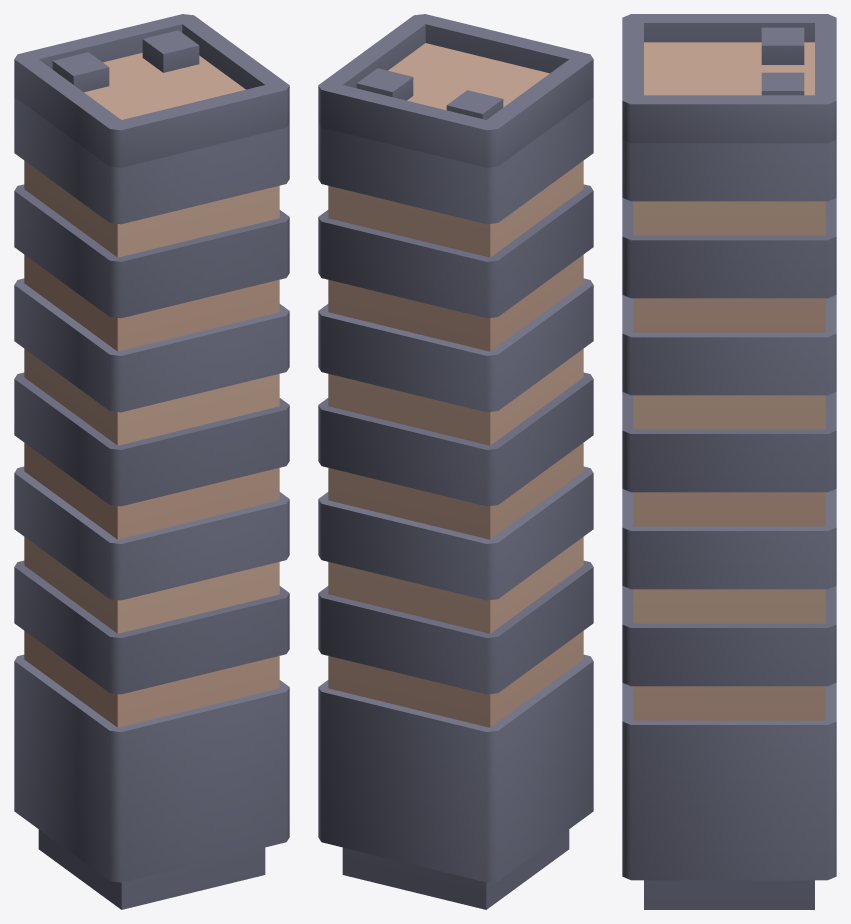
The picture shows the model from 3 angles, left to right: view 1: azimuth 30°, elevation 25°; view 2: azimuth 150°, elevation 25°; view 3: azimuth 270°, elevation 25°; orthographic projection. The views are drawn at different scales.
Parts seen in each view (by area): view 1: low-detail-building-h; view 2: low-detail-building-h; view 3: low-detail-building-h.
Part boxes in pixels (<box>): low-detail-building-h: <box>14,14,289,909</box>; low-detail-building-h: <box>318,14,593,909</box>; low-detail-building-h: <box>622,14,836,909</box>.
Bounding box in the file's own units: 0.5 × 2.1 × 0.5.
1 material, 1 textured.
